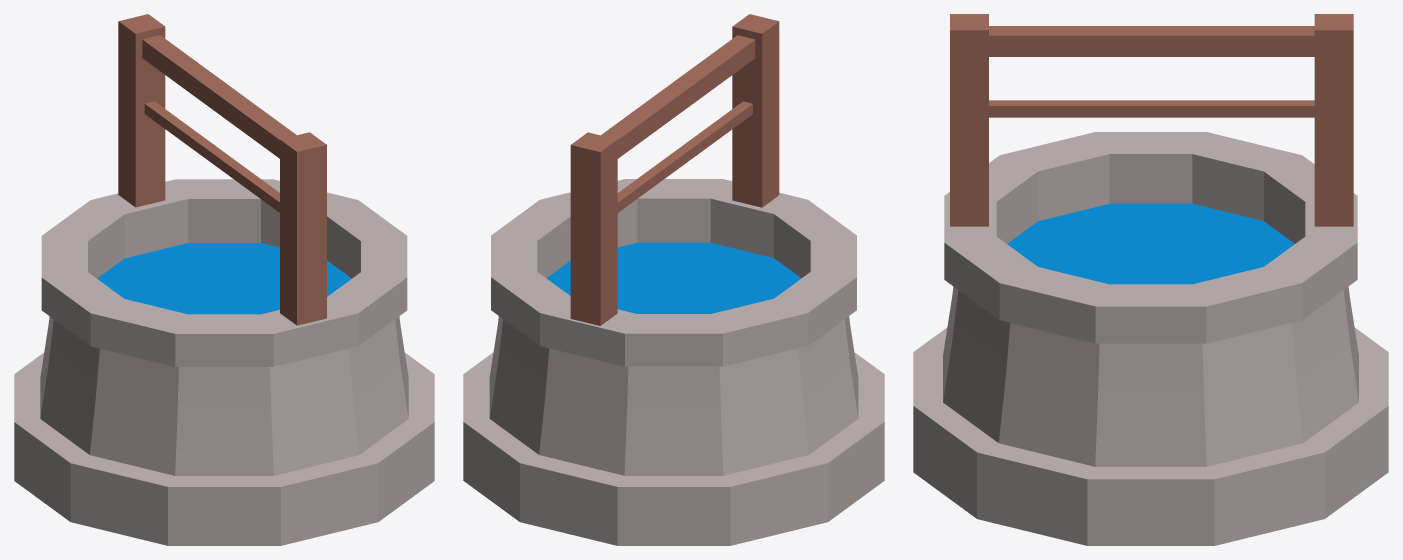
Rendered from Well_withWoodenFrame_Greybox_FBX.fbx.
3 views of the same model, side by side, from view 1: azimuth 30°, elevation 25°; view 2: azimuth 150°, elevation 25°; view 3: azimuth 270°, elevation 25° (orthographic). The views are drawn at different scales.
Visible parts, largest first — view 1: Well, Water1, Wood1, Wood2, Wood4, Wood3; view 2: Well, Water1, Wood2, Wood1, Wood4, Wood3; view 3: Well, Water1, Wood4, Wood2, Wood1, Wood3.
Part boxes in pixels (box(x1,y1,x2,y2)): Well: box(14, 179, 434, 545); Water1: box(97, 243, 351, 314); Wood1: box(280, 132, 326, 325); Wood2: box(118, 14, 165, 207); Wood4: box(142, 35, 296, 158); Wood3: box(144, 101, 279, 212); Well: box(463, 179, 884, 545); Water1: box(546, 242, 801, 313); Wood2: box(570, 132, 617, 325); Wood1: box(732, 14, 779, 207); Wood4: box(601, 35, 755, 158); Wood3: box(617, 101, 752, 212); Well: box(913, 132, 1388, 545); Water1: box(1007, 203, 1294, 284); Wood4: box(989, 26, 1314, 56); Wood2: box(1314, 14, 1353, 226); Wood1: box(950, 14, 988, 226); Wood3: box(989, 100, 1314, 117).
Bounding box in the file's own units: 1.83 × 1.8 × 1.83.
